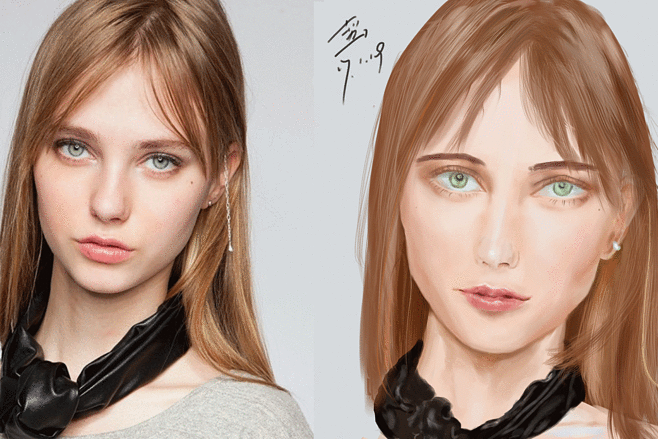nomask: (33, 19, 215, 282)
